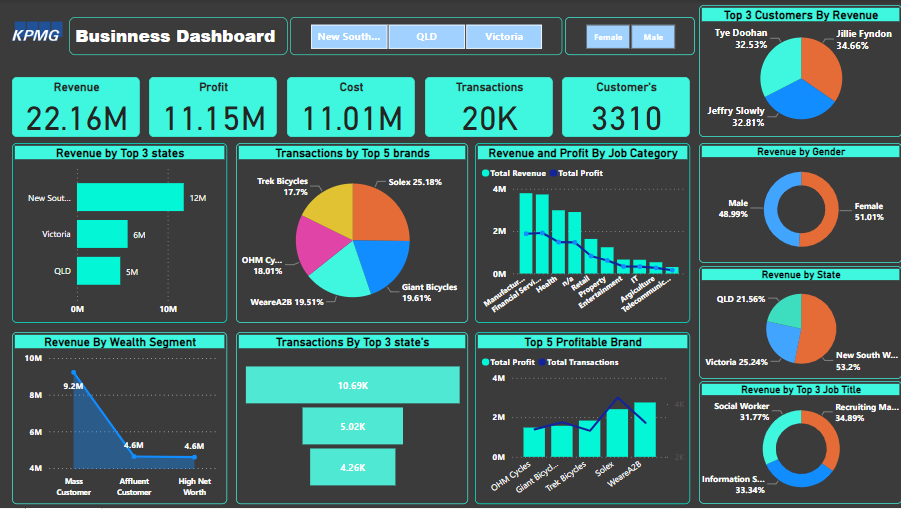

The page's visual inventory and layout, read from the dashboard file:
{"tool":"powerbi","page":{"name":"Page 1","canvas":[1280,720],"ordinal":0},"visuals":[{"type":"barChart","title":"Revenue by Top 3 states","fields":{"Category":["CustomerAddress.state"],"Y":["Transactions.Total Revenue"]},"box":[18.4,202.7,304.7,255.1],"z":0},{"type":"lineClusteredColumnComboChart","title":"Revenue and Profit By Job Category","fields":{"Y":["Transactions.Total Revenue"],"Y2":["Transactions.Total Profit"],"Category":["CustomerDemographic.Job_industry_category"]},"box":[674.6,202.7,304.7,255.1],"z":1000},{"type":"textbox","box":[99.2,24.1,310.4,53.9],"z":2000},{"type":"image","box":[8.5,0,90.7,89.3],"z":3000},{"type":"slicer","title":"Filter by State","fields":{"Values":["CustomerAddress.state"]},"box":[412.4,24.1,385.5,53.9],"z":4000},{"type":"card","title":"Revenue","fields":{"Values":["Transactions.Total Revenue"]},"box":[18.4,109.1,181.4,85],"z":5000},{"type":"card","title":"Profit","fields":{"Values":["Transactions.Total Profit"]},"box":[213.3,109.1,181.4,85],"z":6000},{"type":"card","title":"Cost","fields":{"Values":["Transactions.Total Cost"]},"box":[408.2,109.1,181.4,85],"z":7000},{"type":"card","title":"Transactions","fields":{"Values":["Transactions.Total Transactions"]},"box":[603.1,109.1,181.4,85],"z":8000},{"type":"card","title":"Customer''s","fields":{"Values":["CustomerDemographic.Customer_id"]},"box":[798,109.1,181.4,85],"z":9000},{"type":"areaChart","title":"Revenue By Wealth Segment","fields":{"Y":["Transactions.Total Revenue"],"Category":["CustomerDemographic.Wealth_segment"]},"box":[18.4,470.6,304.7,243.8],"z":10000},{"type":"slicer","fields":{"Values":["CustomerDemographic.Gender"]},"box":[802,24.1,184.3,53.9],"z":11000},{"type":"donutChart","title":"Revenue by Gender","fields":{"Y":["Transactions.Total Revenue"],"Category":["CustomerDemographic.Gender"]},"box":[992.1,202,287.7,170],"z":12000},{"type":"pieChart","title":"Revenue by State","fields":{"Y":["Transactions.Total Revenue"],"Category":["CustomerAddress.state"]},"box":[992.1,377,287.7,160.2],"z":13000},{"type":"lineClusteredColumnComboChart","title":"Top 5 Profitable Brand","fields":{"Category":["Transactions.brand"],"Y":["Transactions.Total Profit"],"Y2":["Transactions.Total Transactions"]},"box":[674.6,470.6,304.7,243.8],"z":15000},{"type":"pieChart","title":"Transactions by Top 5 brands","fields":{"Category":["Transactions.brand"],"Y":["Transactions.Total Transactions"]},"box":[335.9,202.7,328.8,255.1],"z":16000},{"type":"funnel","title":"Transactions By Top 3 state''s","fields":{"Y":["Transactions.Total Transactions"],"Category":["CustomerAddress.state"]},"box":[335.9,470.6,328.8,243.8],"z":18000},{"type":"donutChart","title":"Revenue by Top 3 Job Title","fields":{"Y":["Transactions.Total Revenue"],"Category":["CustomerDemographic.Job_title"]},"box":[992.1,540,287.7,174.3],"z":18001},{"type":"pieChart","title":"Top 3 Customers By Revenue","fields":{"Y":["Transactions.Total Revenue"],"Category":["CustomerDemographic.Full Name"]},"box":[992.1,7.1,287.7,187.1],"z":18002}]}

Visuals, with their boxes in screenshot pixels (x1, y1, x2, y2), scaled from the page's 1280x720 canvas onto the 901x509 screenshot:
"Revenue by Top 3 states" barChart: (13,143,227,324)
"Revenue and Profit By Job Category" lineClusteredColumnComboChart: (475,143,689,324)
textbox: (70,17,288,55)
image: (6,0,70,63)
"Filter by State" slicer: (290,17,562,55)
"Revenue" card: (13,77,141,137)
"Profit" card: (150,77,278,137)
"Cost" card: (287,77,415,137)
"Transactions" card: (425,77,552,137)
"Customer''s" card: (562,77,689,137)
"Revenue By Wealth Segment" areaChart: (13,333,227,505)
slicer - CustomerDemographic.Gender: (565,17,694,55)
"Revenue by Gender" donutChart: (698,143,900,263)
"Revenue by State" pieChart: (698,267,900,380)
"Top 5 Profitable Brand" lineClusteredColumnComboChart: (475,333,689,505)
"Transactions by Top 5 brands" pieChart: (236,143,468,324)
"Transactions By Top 3 state''s" funnel: (236,333,468,505)
"Revenue by Top 3 Job Title" donutChart: (698,382,900,505)
"Top 3 Customers By Revenue" pieChart: (698,5,900,137)
